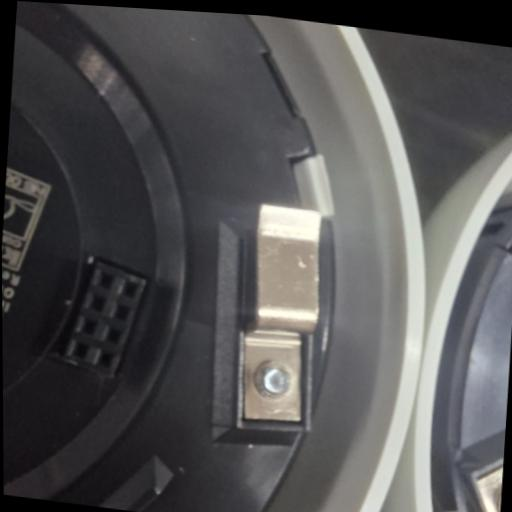yaysiz: (231, 198, 331, 434)
